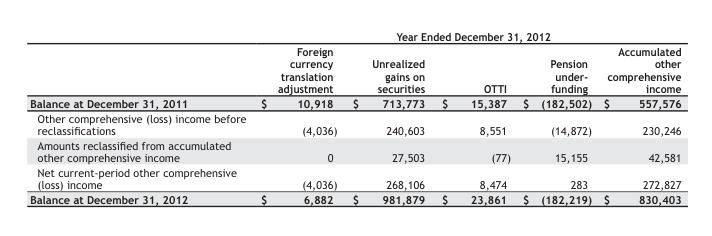table: (29, 29, 680, 204)
table column: (29, 29, 252, 204), (252, 29, 344, 204), (344, 29, 432, 204), (596, 29, 680, 204), (432, 29, 515, 204), (515, 29, 596, 204)
table column header: (29, 29, 680, 95)
table row: (29, 43, 680, 95), (29, 110, 680, 137), (29, 137, 680, 164), (29, 164, 680, 191), (29, 95, 680, 110), (29, 29, 680, 43), (29, 191, 680, 204)
table spanning cell: (252, 29, 680, 43)
